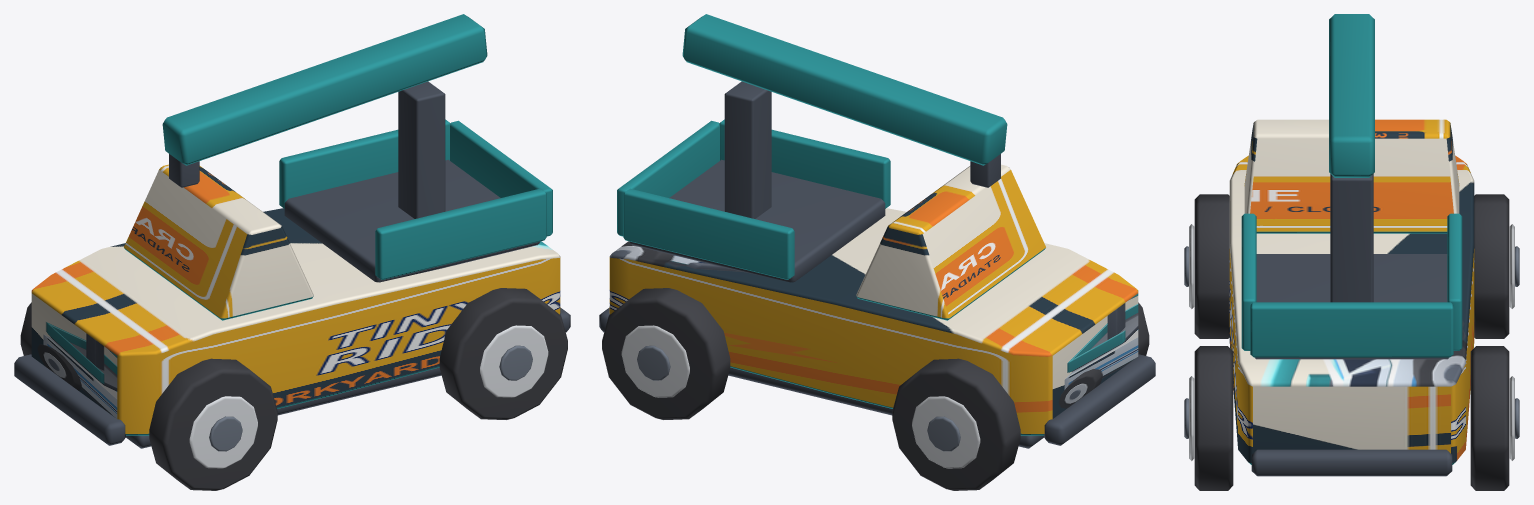
3 renders of one model, left to right at view 1: azimuth 30°, elevation 25°; view 2: azimuth 150°, elevation 25°; view 3: azimuth 270°, elevation 25°, orthographic. The views are drawn at different scales.
Visible parts, largest first — view 1: WY-04_connected_shell, WY-04_cabin, boom, Tire, Tire.002, cargo side, cargo floor, boom pillar, cargo side.001, cargo tail, front bumper, Rim (+5 smaller); view 2: WY-04_connected_shell, WY-04_cabin, boom, Tire.001, Tire.003, cargo side.001, cargo floor, boom pillar, cargo side, cargo tail, front bumper, Rim.001 (+5 smaller); view 3: WY-04_connected_shell, WY-04_cabin, cargo tail, cargo floor, boom, Tire.002, Tire.003, rear bumper, boom pillar, Tire, Tire.001, cargo side (+5 smaller).
Part boxes in pixels (bbox=[...]): WY-04_connected_shell: bbox=[31, 208, 560, 435]; WY-04_cabin: bbox=[124, 164, 313, 320]; boom: bbox=[162, 14, 487, 165]; Tire: bbox=[149, 358, 277, 490]; Tire.002: bbox=[439, 288, 567, 419]; cargo side: bbox=[375, 188, 546, 279]; cargo floor: bbox=[284, 159, 540, 282]; boom pillar: bbox=[398, 81, 445, 218]; cargo side.001: bbox=[279, 119, 450, 208]; cargo tail: bbox=[450, 120, 552, 236]; front bumper: bbox=[14, 354, 125, 445]; Rim: bbox=[189, 396, 257, 468]; WY-04_connected_shell: bbox=[609, 208, 1138, 435]; WY-04_cabin: bbox=[856, 164, 1045, 320]; boom: bbox=[682, 14, 1007, 165]; Tire.001: bbox=[892, 358, 1020, 490]; Tire.003: bbox=[602, 288, 730, 419]; cargo side.001: bbox=[623, 188, 794, 279]; cargo floor: bbox=[629, 159, 885, 282]; boom pillar: bbox=[724, 81, 771, 218]; cargo side: bbox=[719, 119, 890, 208]; cargo tail: bbox=[617, 120, 719, 236]; front bumper: bbox=[1044, 354, 1155, 445]; Rim.001: bbox=[912, 396, 980, 468]; WY-04_connected_shell: bbox=[1229, 155, 1474, 464]; WY-04_cabin: bbox=[1244, 119, 1459, 233]; cargo tail: bbox=[1250, 302, 1453, 357]; cargo floor: bbox=[1254, 254, 1449, 359]; boom: bbox=[1329, 14, 1374, 177]; Tire.002: bbox=[1194, 346, 1233, 490]; Tire.003: bbox=[1470, 346, 1509, 490]; rear bumper: bbox=[1251, 449, 1452, 476]; boom pillar: bbox=[1330, 174, 1373, 302]; Tire: bbox=[1194, 194, 1229, 338]; Tire.001: bbox=[1474, 194, 1509, 338]; cargo side: bbox=[1241, 213, 1256, 350].
Size of the model in its own units: 390 by 271 by 226.
